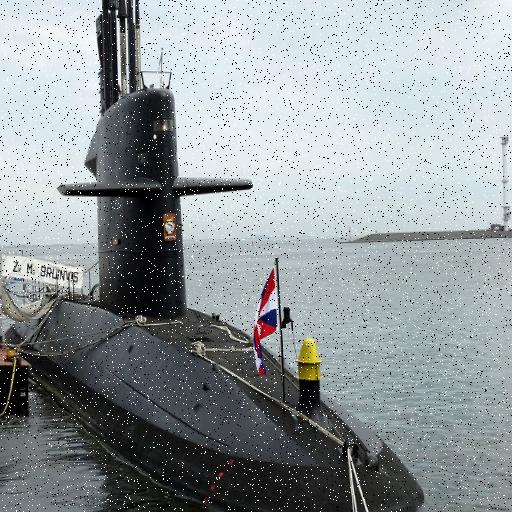submarine: (1, 1, 427, 512)
